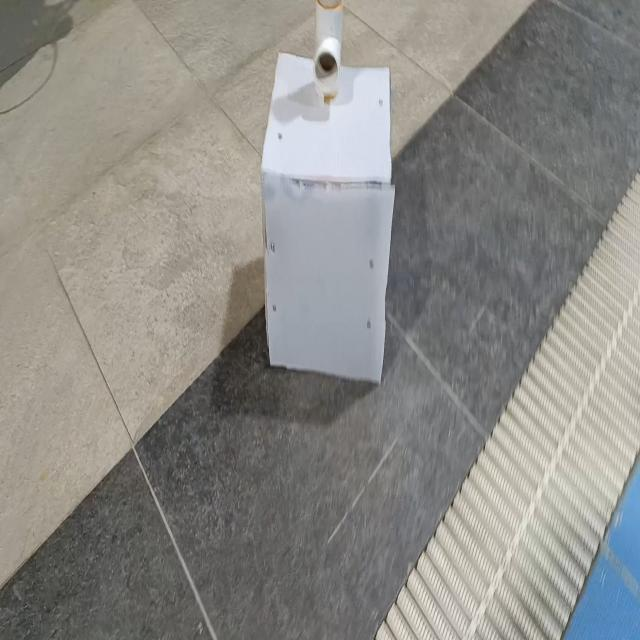Cube: (260, 50, 395, 386)
